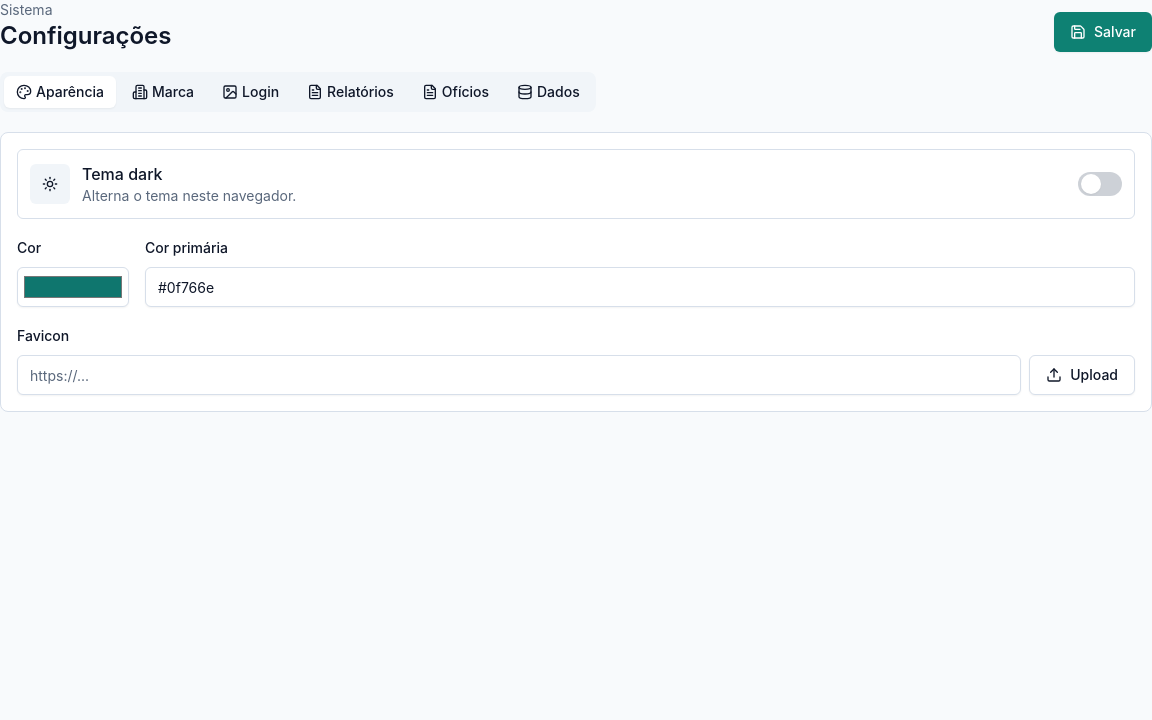
Test: SettingsPage › deletes office templates from the table action
Click the tab "Ofícios" at {"x": 455, "y": 92}, box [410,76,501,108]
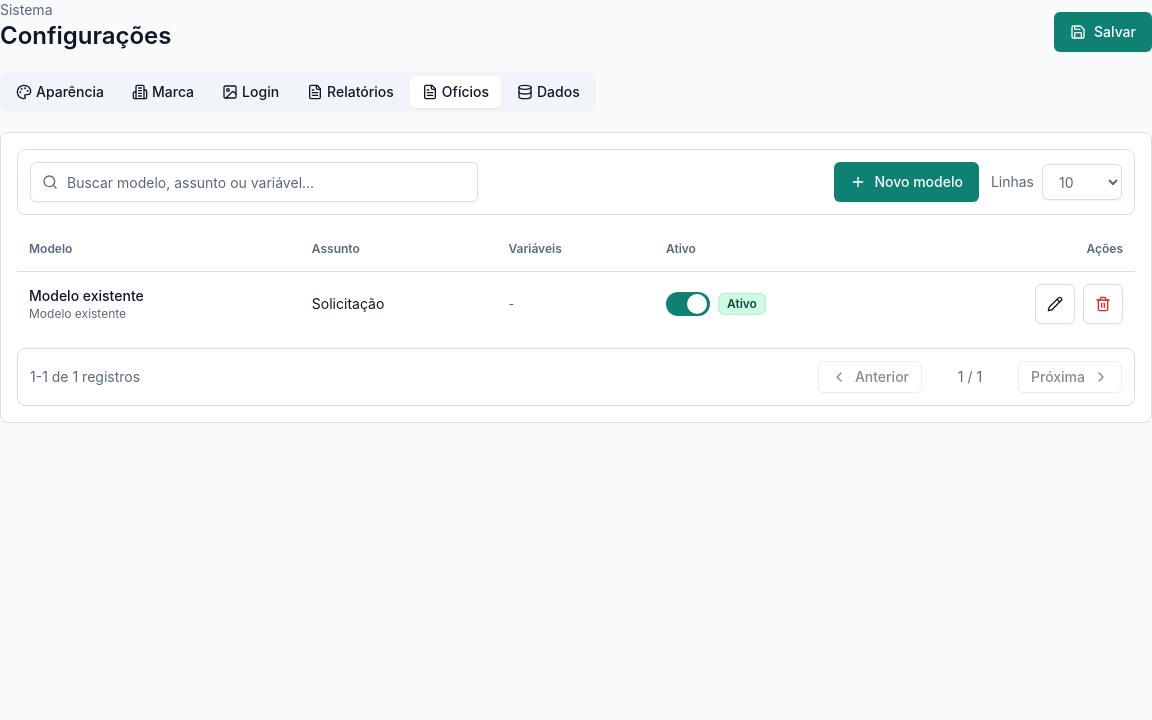
Click the button named "Excluir Modelo existente" at {"x": 1103, "y": 304}, box [1083,284,1123,324]
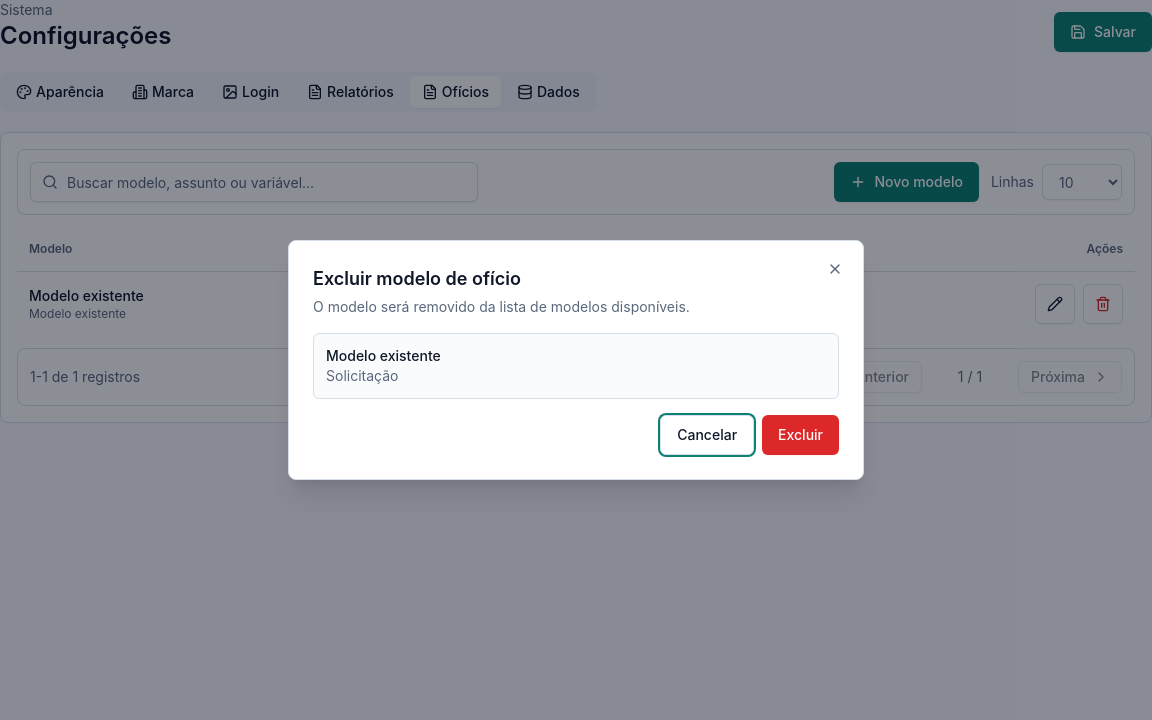
Click the button "Excluir" at {"x": 801, "y": 435}, box [762,415,839,455]
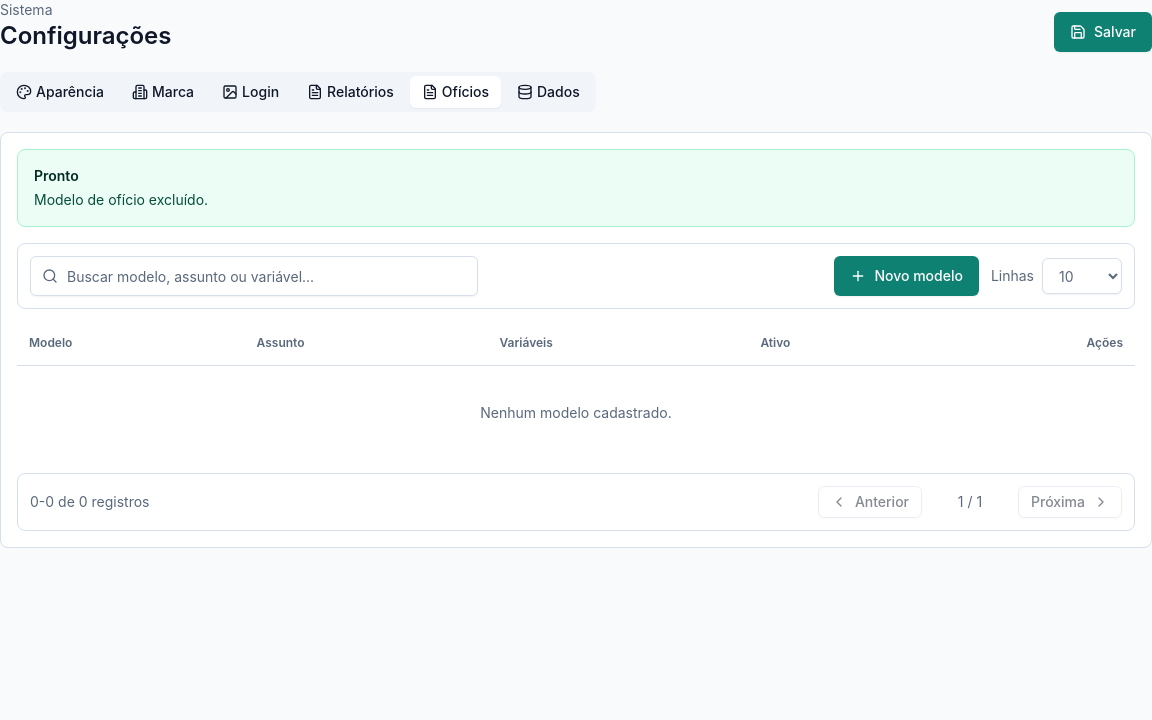
Expected: the text "Modelo de ofício excluído." is shown, [34,191,208,208]
